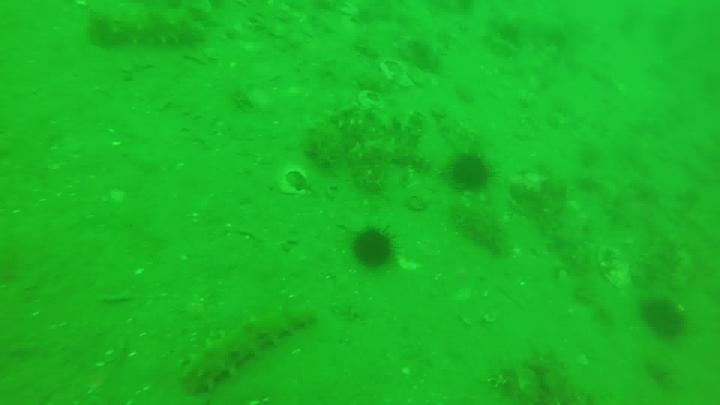echinus: (644, 296, 693, 340), (351, 228, 401, 270), (450, 155, 499, 194)
holothurian: (178, 300, 317, 405), (78, 10, 203, 50), (319, 102, 393, 146), (364, 142, 430, 172)
scallop: (380, 55, 410, 88), (280, 160, 310, 193), (603, 247, 629, 278), (246, 89, 275, 111), (355, 94, 385, 112)
